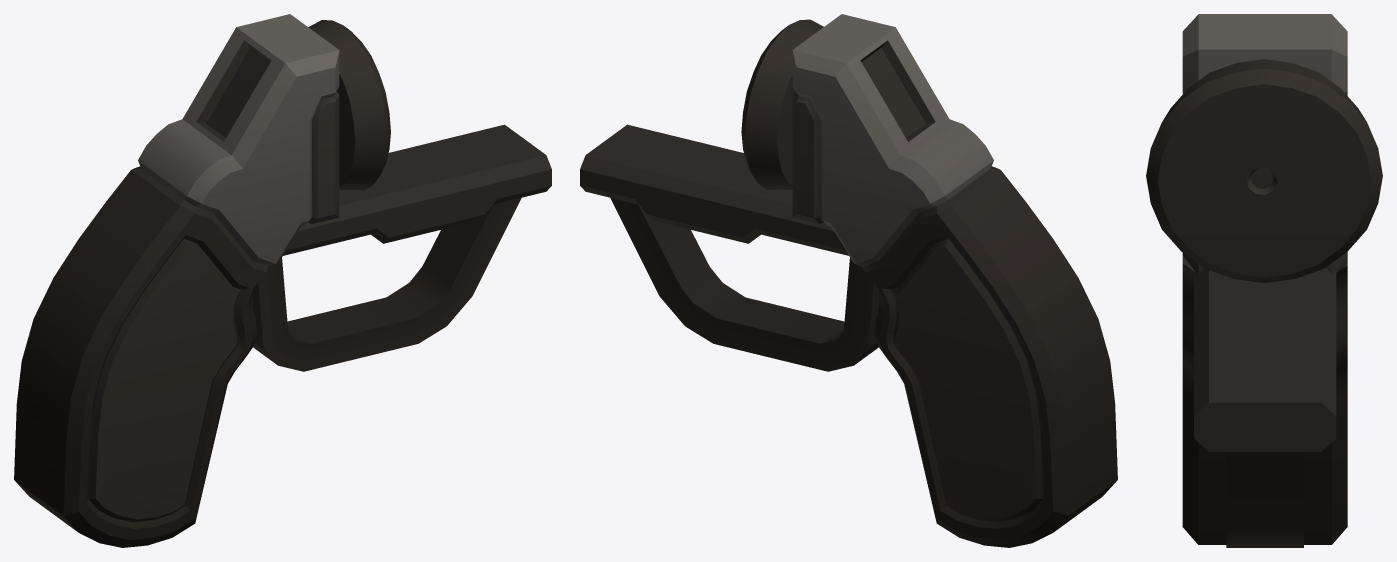
The model's file is Pistol4_Base.fbx.
3 views of the same model, side by side, from view 1: azimuth 30°, elevation 25°; view 2: azimuth 150°, elevation 25°; view 3: azimuth 270°, elevation 25° (orthographic). The views are drawn at different scales.
Parts seen in each view (by area): view 1: Pistol4_Base; view 2: Pistol4_Base; view 3: Pistol4_Base.
Part boxes in pixels (x1,y1,x2,y2): Pistol4_Base: [14, 14, 551, 547]; Pistol4_Base: [580, 14, 1117, 547]; Pistol4_Base: [1146, 14, 1382, 547].
Bounding box in the file's own units: 18.01 × 15.86 × 5.64.
